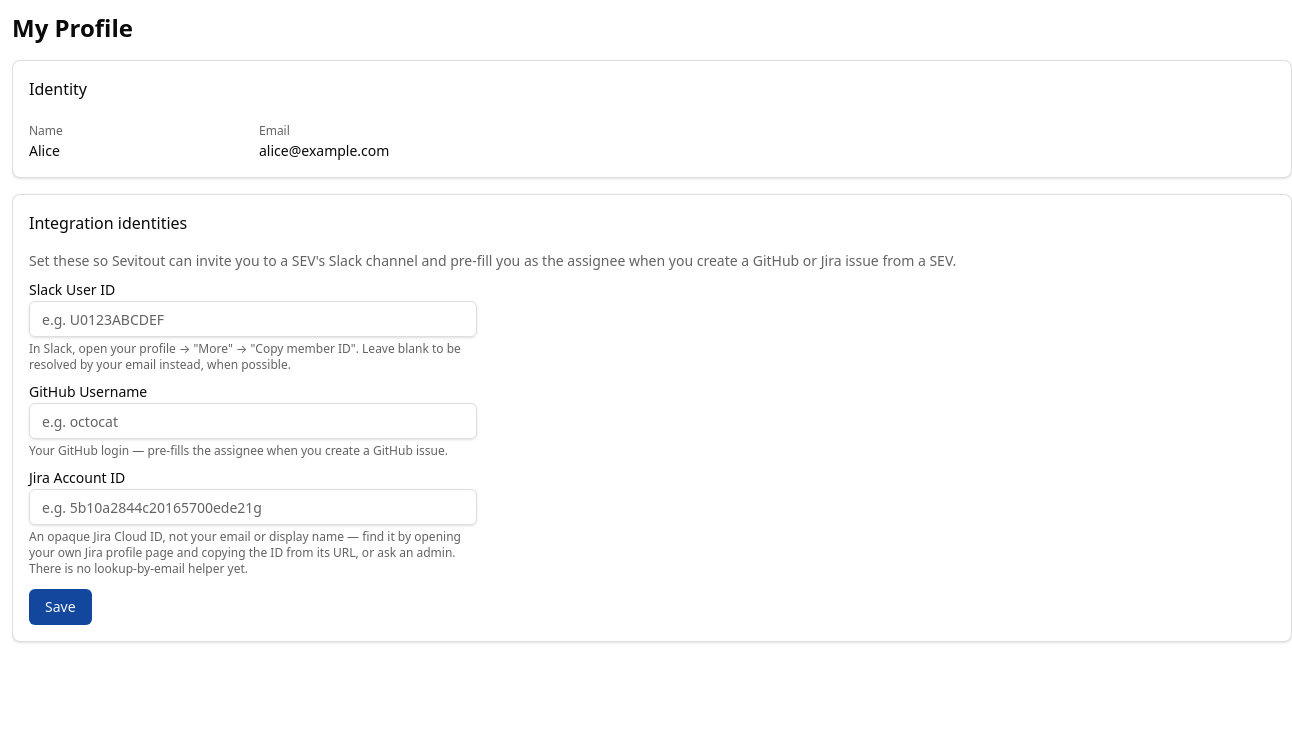
it: ProfilePage › saves all three fields as a full-replace request
Step 1. Type "U999" into the field labelled "Slack User ID" → (253, 319), box [29,301,477,337]
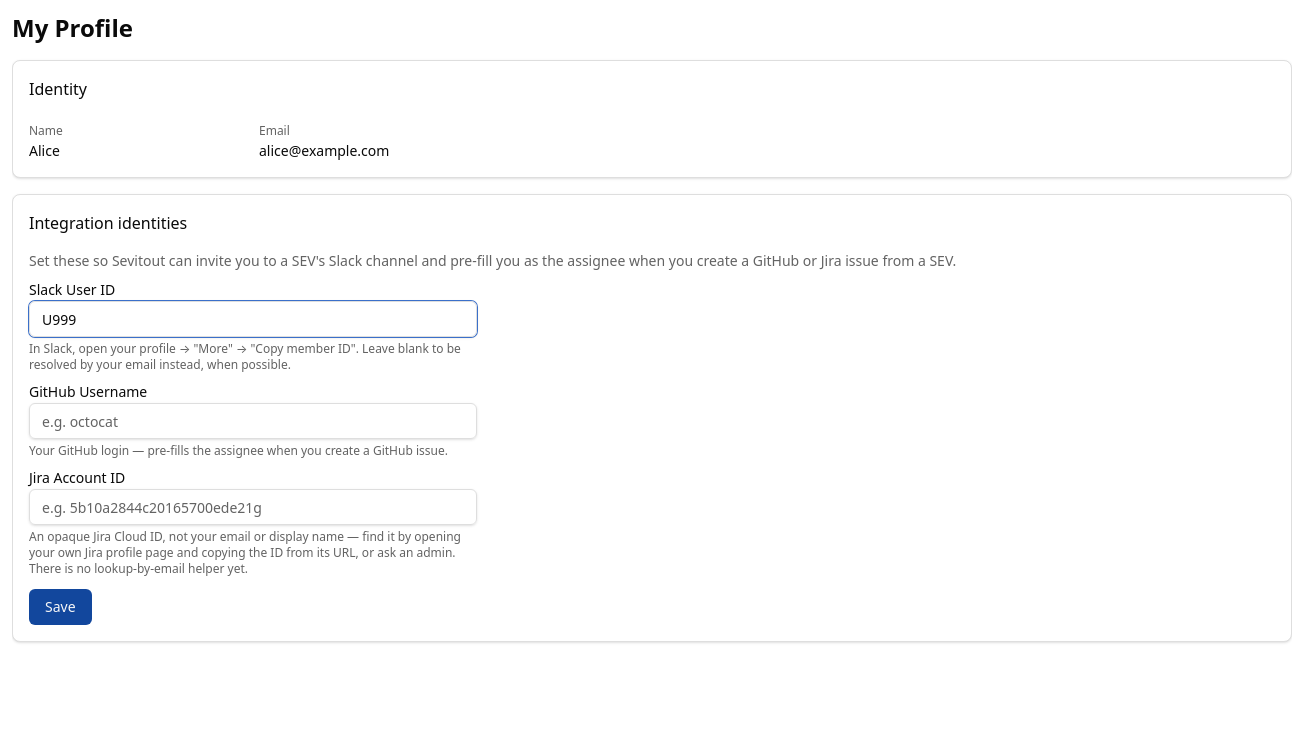
Step 2. Type "bob-gh" into the field labelled "GitHub Username" → (253, 421), box [29,403,477,439]
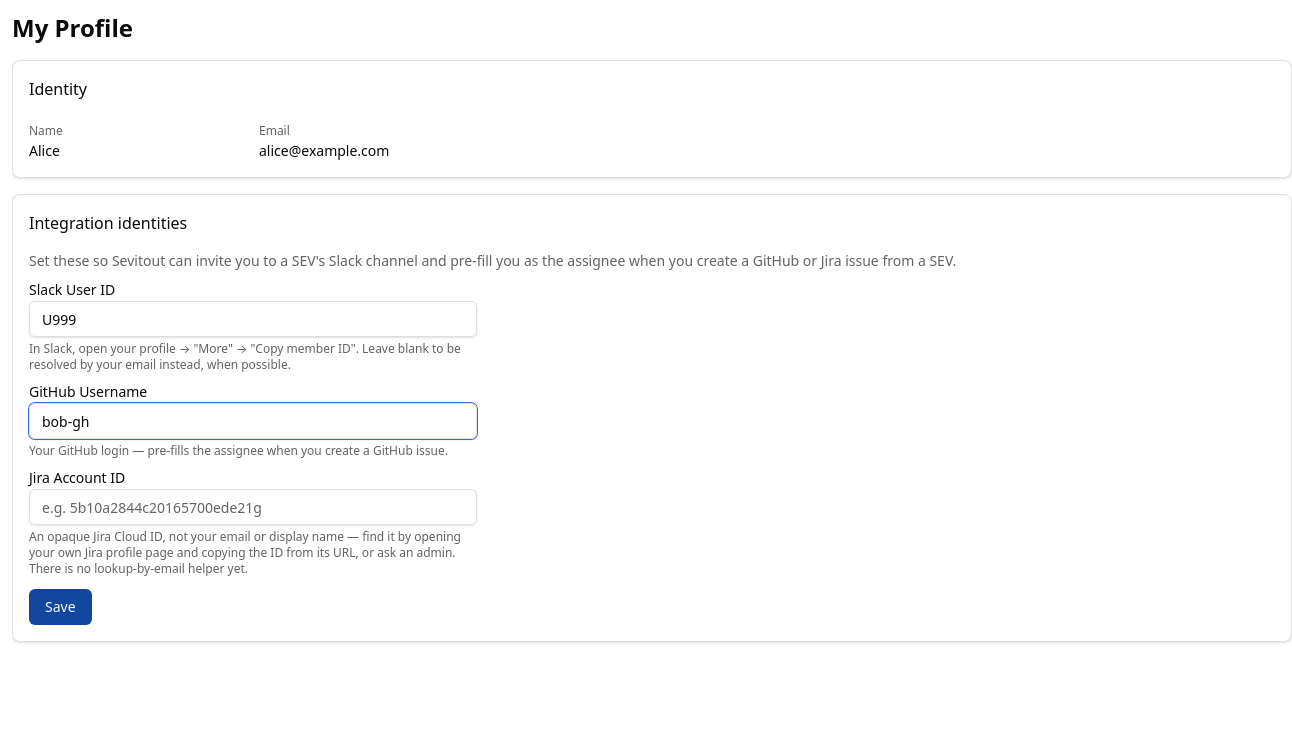
Step 3. Click the button "Save" → (60, 607), box [29,589,92,625]
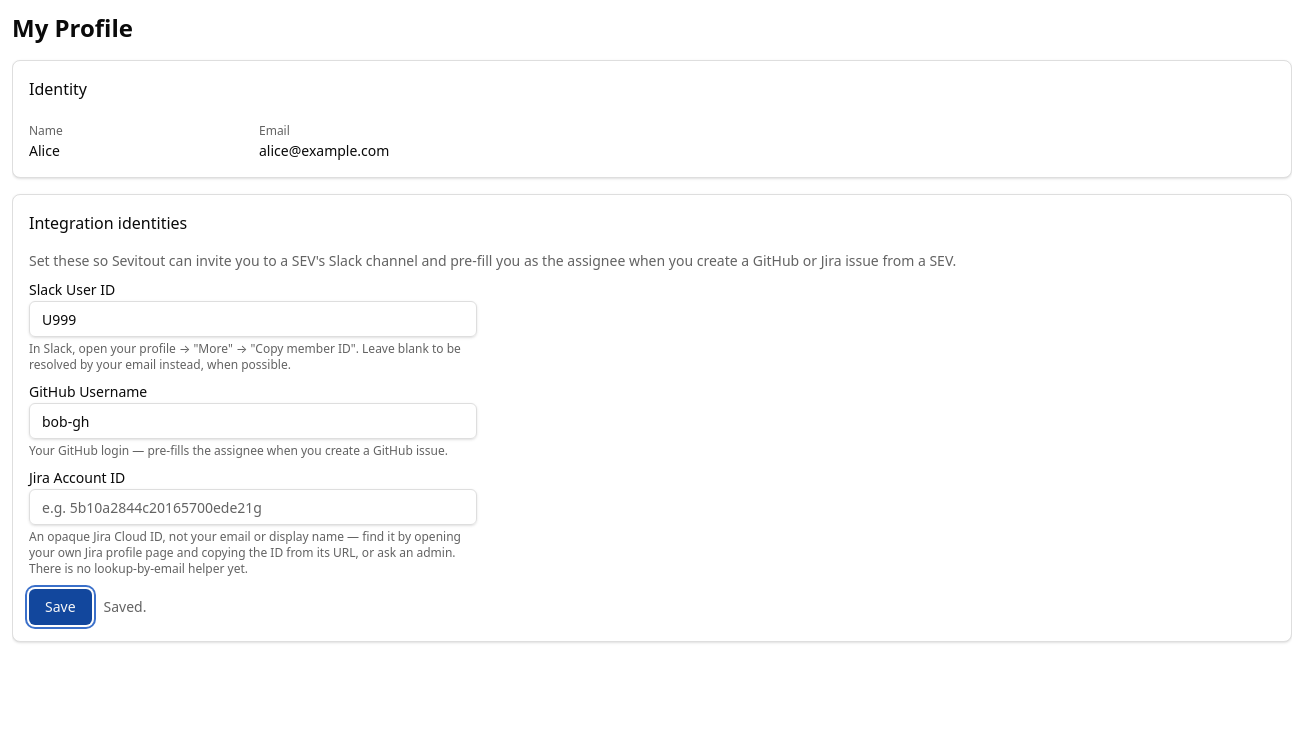
Expected: the text "Saved." is shown, [104,597,146,617]
